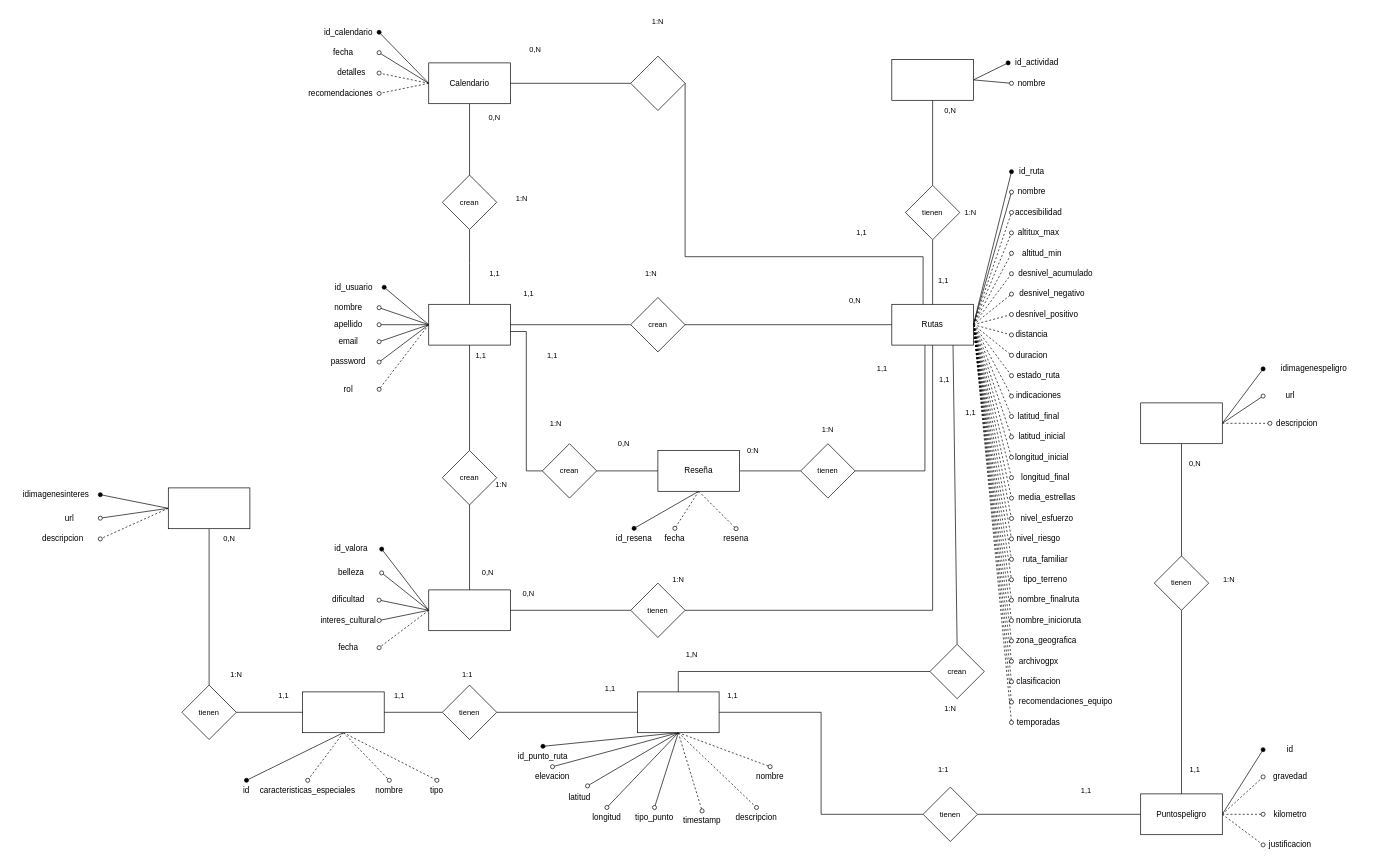
Image size: 1376x866. Some labels were removed from this diagram. The shapes that lost their labels are listed below. From the top down, each one's centre as x and y in pixels, then its label:
point 657,83: estan
point 932,79: Actividad
point 469,324: Usuario
point 1181,423: Imagenespeligro
point 209,508: ImagenesInteres
point 469,610: Valoracion
point 343,712: PuntosInteres
point 678,712: Puntos_ruta
